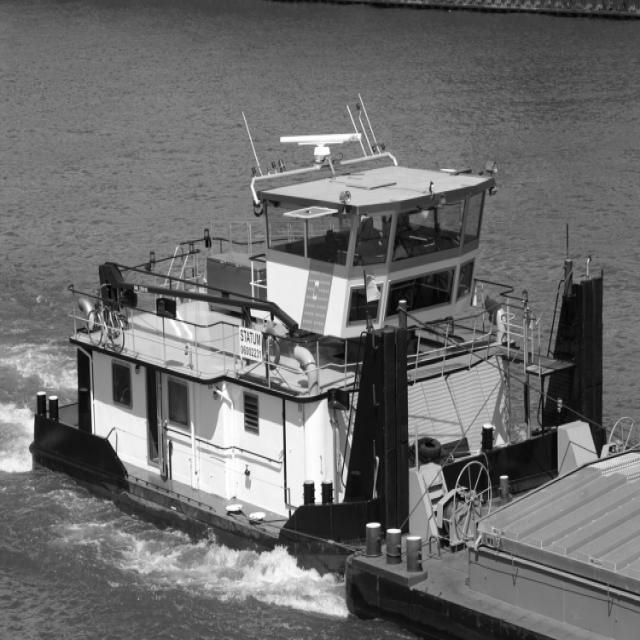tugboat: (28, 92, 611, 590)
